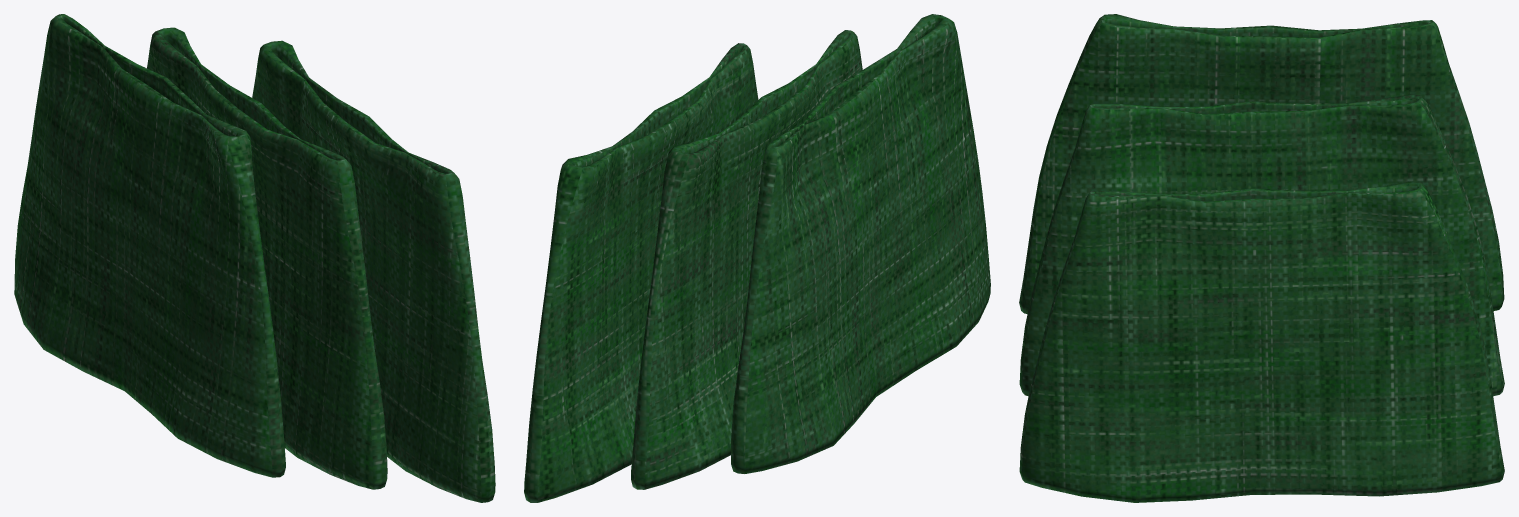
File: yifu12duanku_02.fbx
3 views of the same model, side by side, from view 1: azimuth 30°, elevation 25°; view 2: azimuth 150°, elevation 25°; view 3: azimuth 270°, elevation 25° (orthographic). The views are drawn at different scales.
Parts seen in each view (by area): view 1: yifu12duanku_02; view 2: yifu12duanku_02; view 3: yifu12duanku_02.
Part boxes in pixels (x1,y1,x2,y2): yifu12duanku_02: (14,14,495,502); yifu12duanku_02: (524,14,990,502); yifu12duanku_02: (1019,14,1504,502).
Size of the model in its own units: 32.72 by 42.68 by 50.44.
